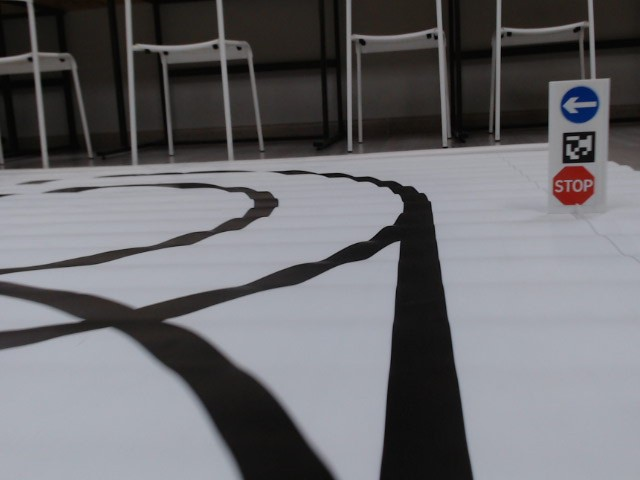Stop: (553, 164, 596, 205)
